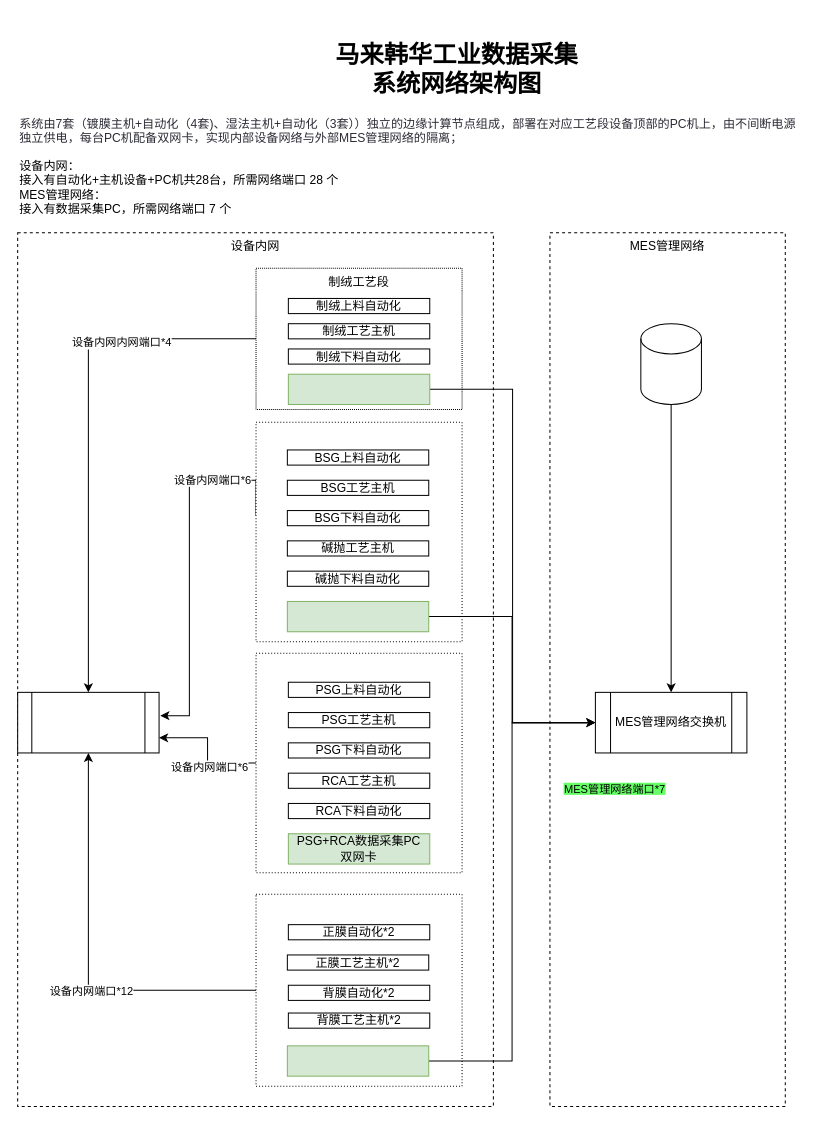
This 823x1124 diagram has some shape labels left out. The box of each missing label's shape, as (x1, y1, x2, y2) in pixels:
BSG+碱抛 数据采集PC 双网卡: (286, 600, 429, 632)
BSG+碱抛工艺段: (255, 421, 462, 642)
MES系统服务器: (640, 323, 701, 405)
PSG+RCA工艺段: (255, 652, 462, 873)
制绒工艺段数据采集PC 双网卡: (287, 373, 430, 405)
设备内网交换机: (17, 691, 159, 753)
镀膜工艺段: (255, 893, 462, 1086)
镀膜数据采集PC 双网卡*4: (286, 1045, 429, 1076)
